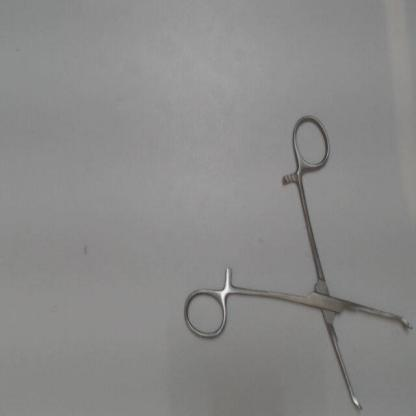Allis Tissue Forceps: (178, 108, 414, 415)
